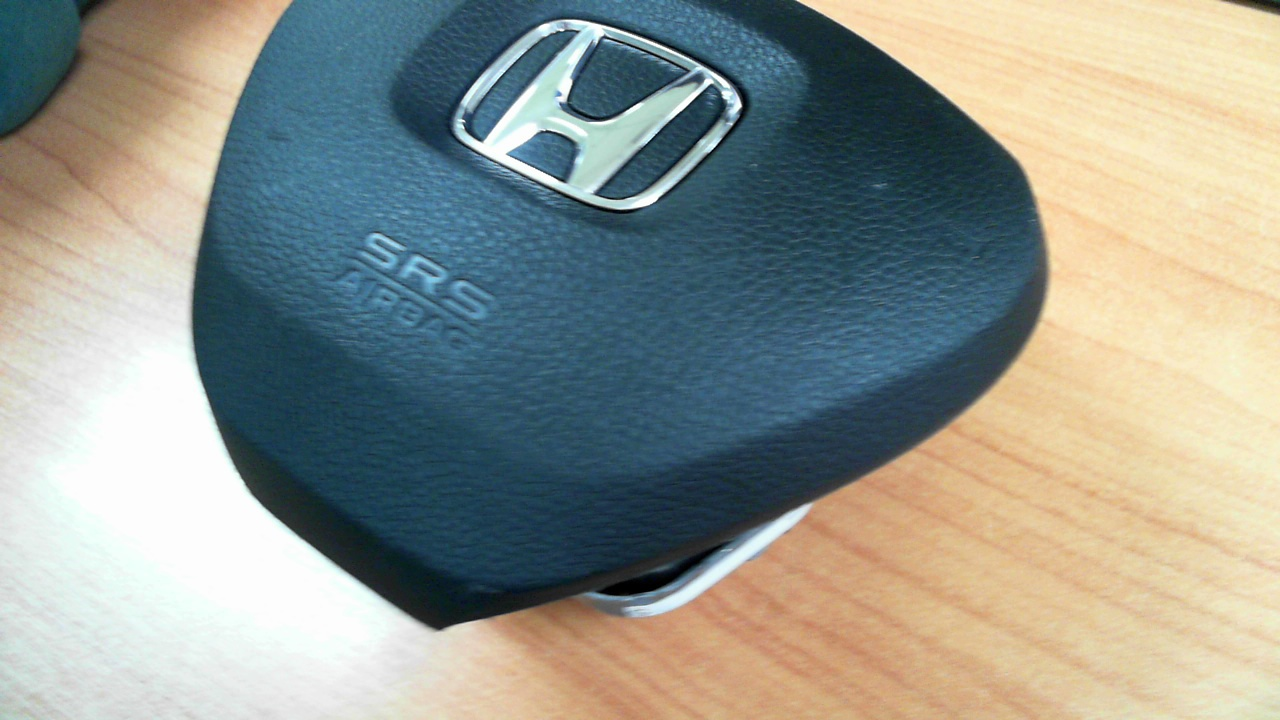Airbag: (192, 3, 1050, 630)
Honda: (452, 18, 743, 210)
